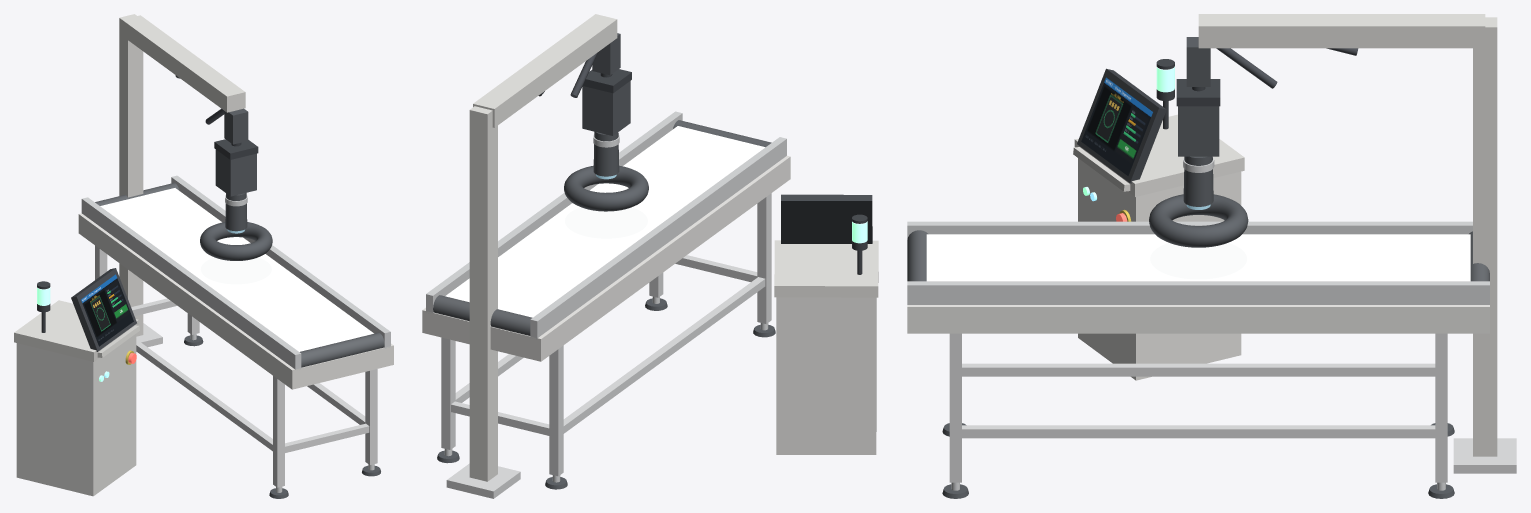
File: keyence_vision_inspection.glb
3 renders of one model, left to right at view 1: azimuth 30°, elevation 25°; view 2: azimuth 150°, elevation 25°; view 3: azimuth 270°, elevation 25°, orthographic. The views are drawn at different scales.
Parts seen in each view (by area): view 1: Keyence_Vision_Inspection_Station; view 2: Keyence_Vision_Inspection_Station; view 3: Keyence_Vision_Inspection_Station.
Boxes of the visible parts, x1=… form: Keyence_Vision_Inspection_Station: x1=14, y1=14, x2=393, y2=498; Keyence_Vision_Inspection_Station: x1=422, y1=14, x2=878, y2=498; Keyence_Vision_Inspection_Station: x1=907, y1=14, x2=1516, y2=498.
Bounding box in the file's own units: 1.83 × 2.01 × 2.51.
25 materials, 6 textured.
